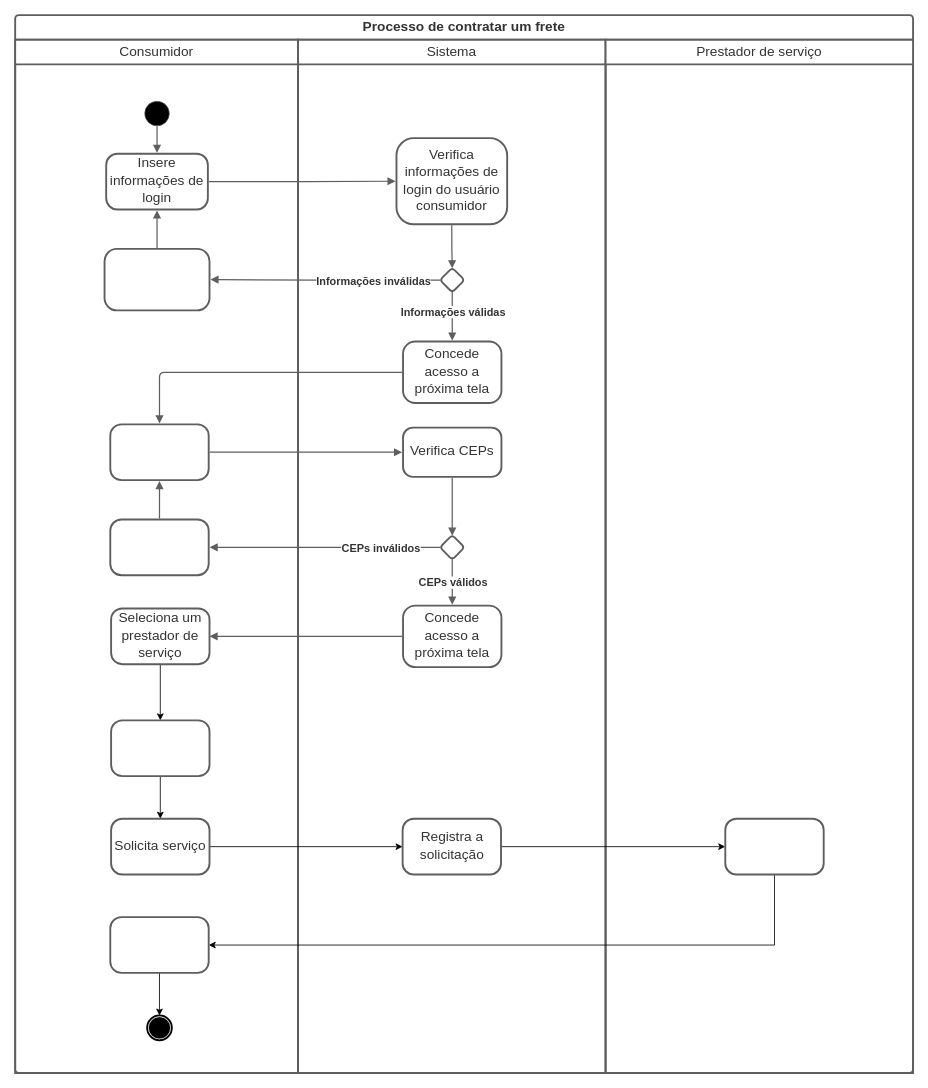
Some shapes in this 928 by 1088 pixel diagram are drawn without their labels. Here are the shapes that lost their labels. From the top down, the centre of each, then its label:
point (156, 279): Redebe mensagem de erro
point (159, 452): Informa CEP de origem e destino
point (159, 547): Recebe mensagem de erro
point (160, 748): Insere as informações de data do serviço
point (774, 846): Aceita solicitação de serviço
point (159, 945): Realiza o pagamento
